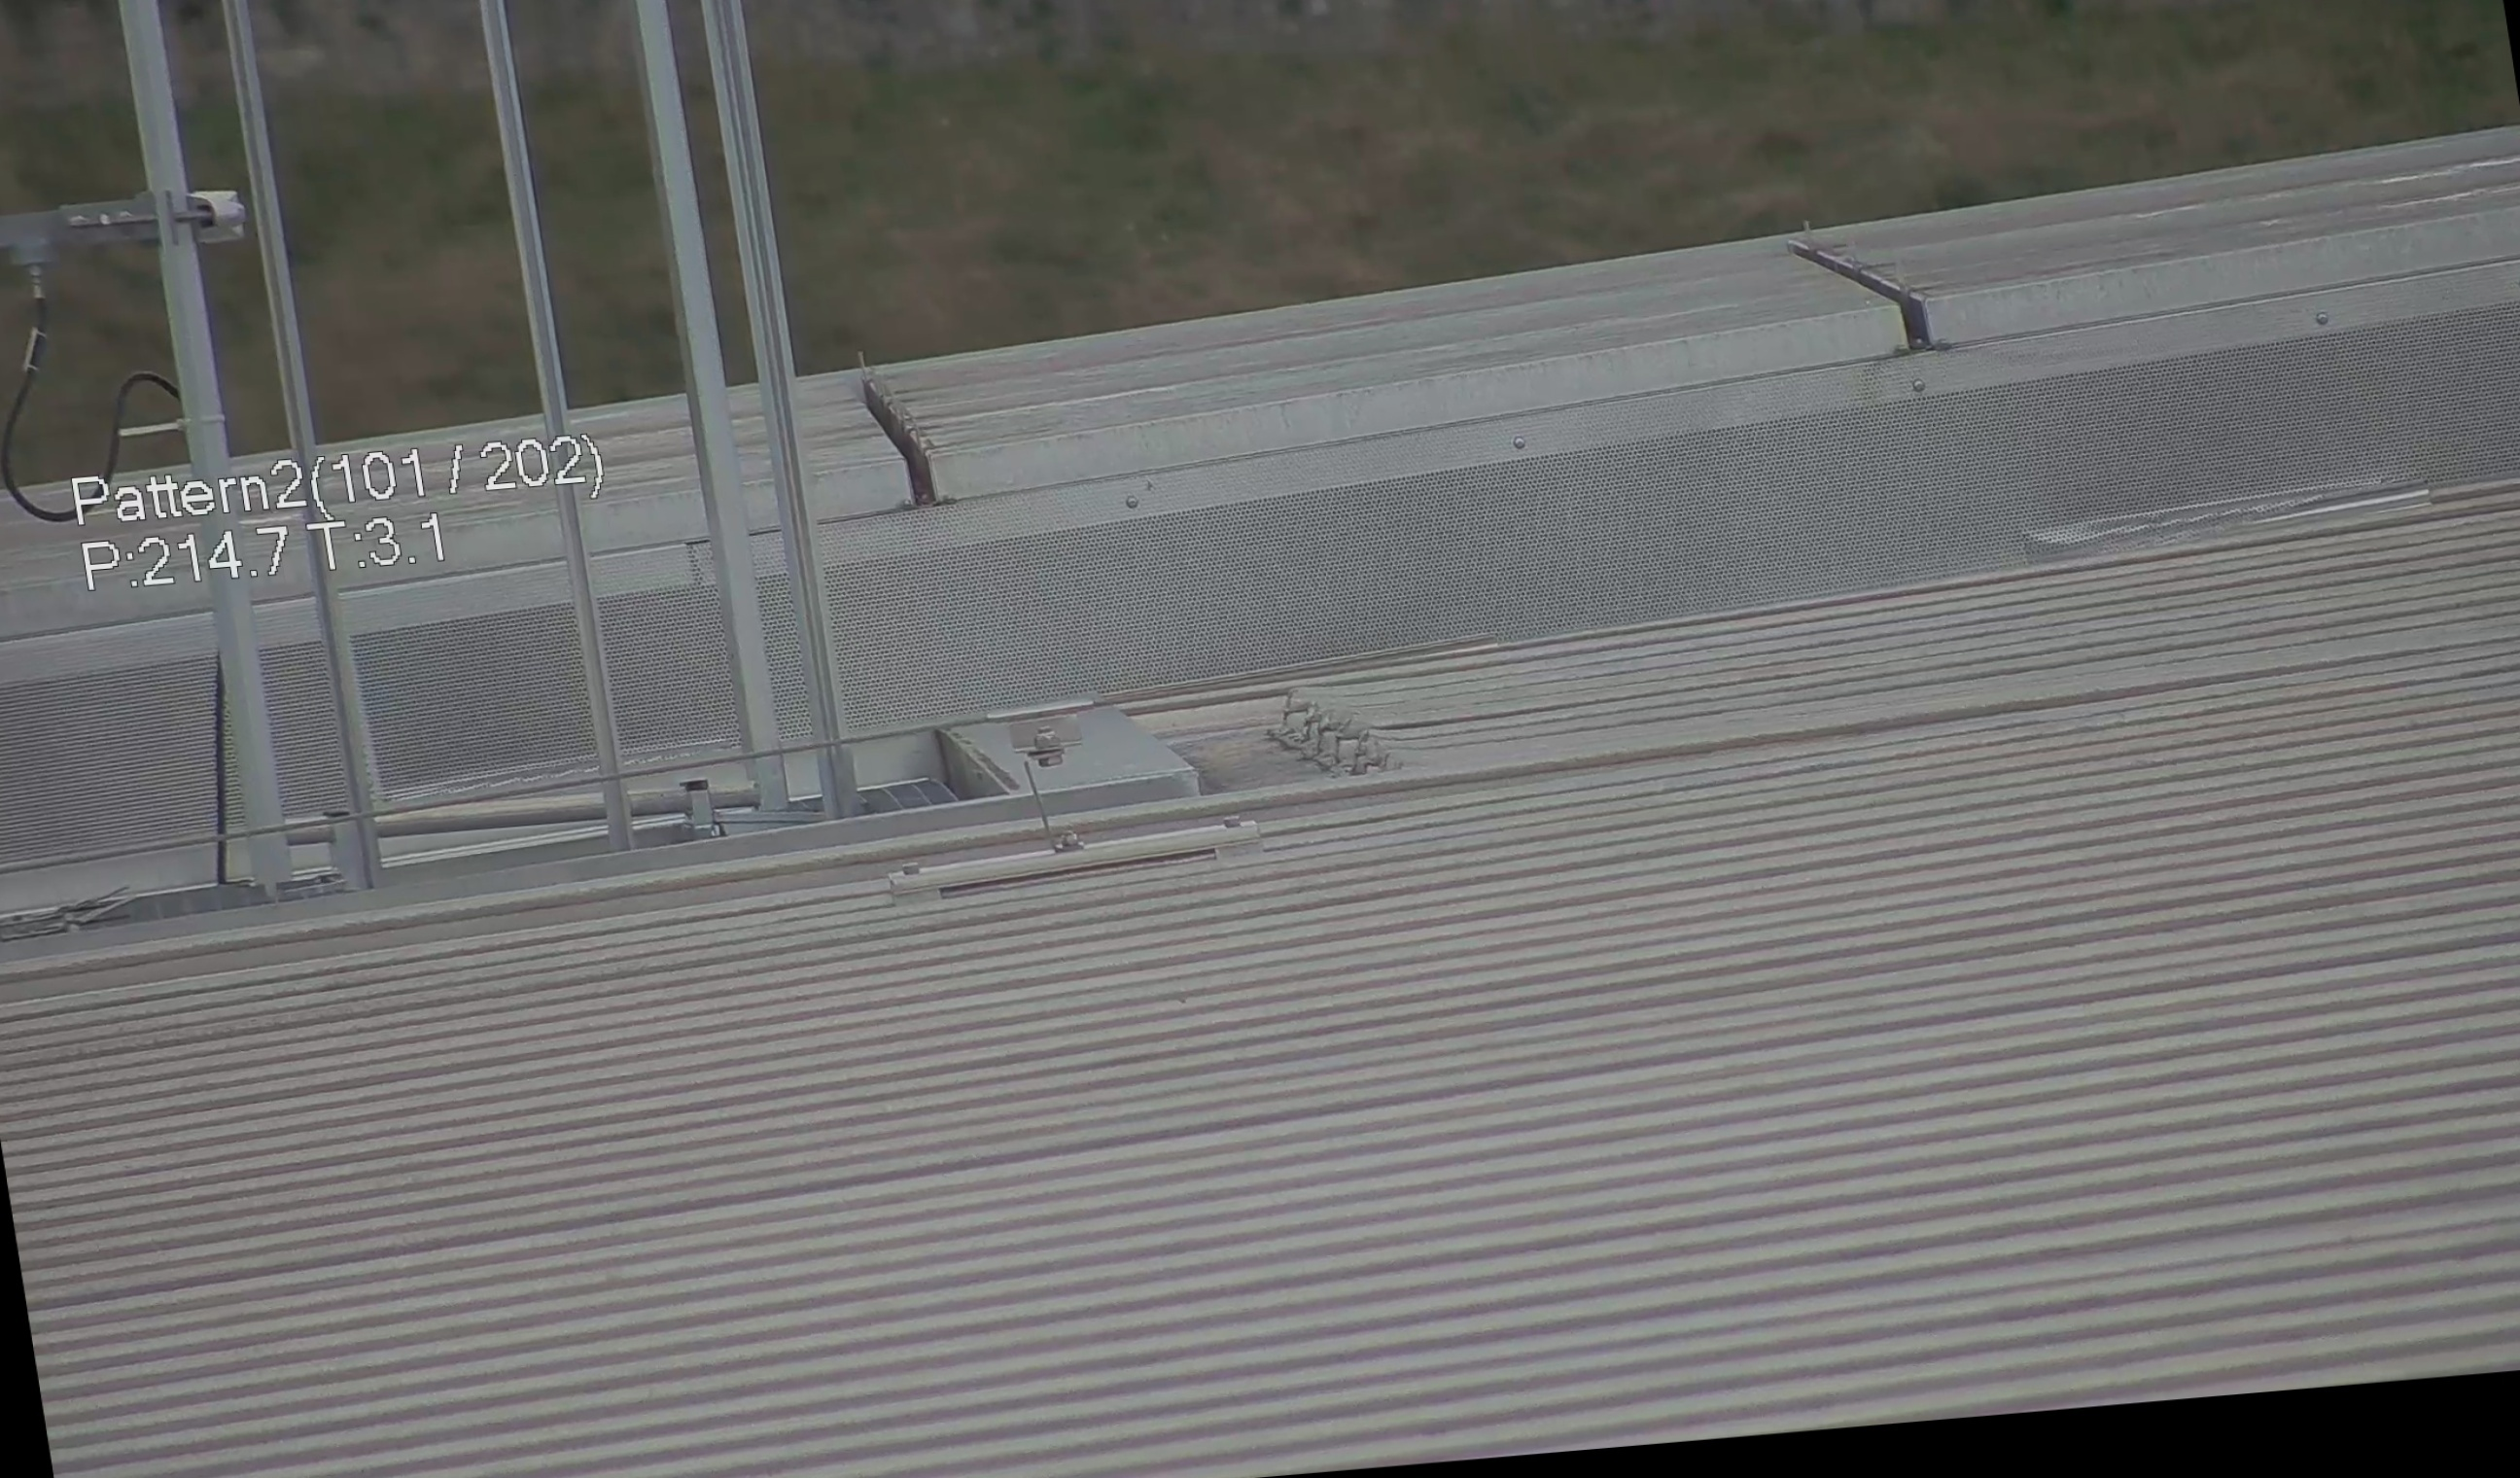Other: (828, 347, 951, 514)
